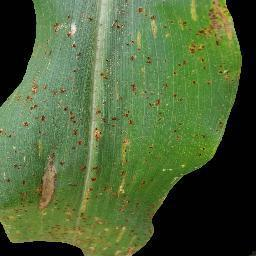Corn_Common_Rust: (96, 0, 241, 256), (0, 0, 96, 252)
